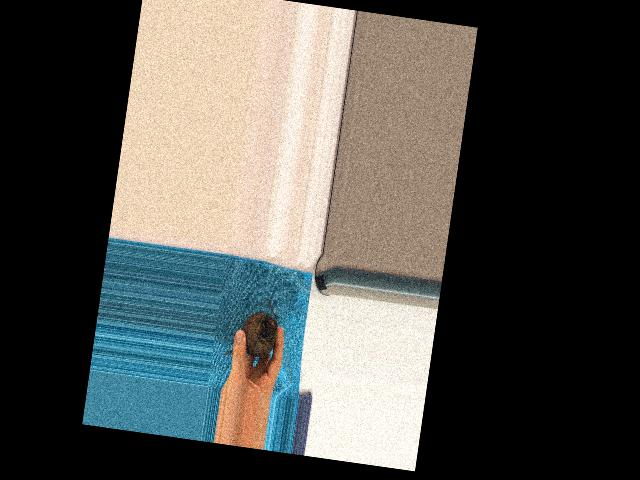beet: (223, 294, 281, 361)
